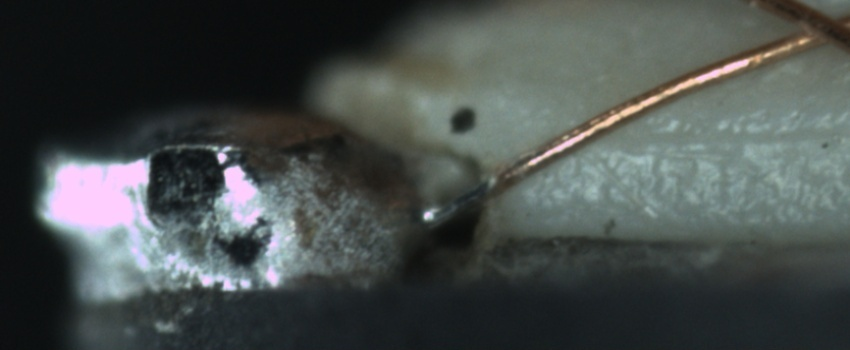CL: (767, 2, 849, 56)
DL: (605, 103, 845, 171)
TS: (415, 173, 499, 227)
